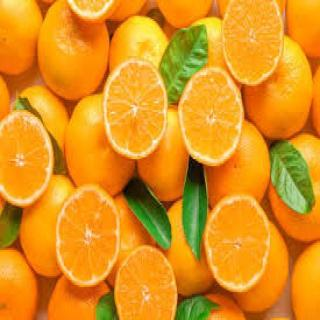orange: (173, 56, 245, 172), (102, 58, 170, 174), (201, 195, 275, 298), (67, 92, 137, 198), (219, 0, 289, 102)
